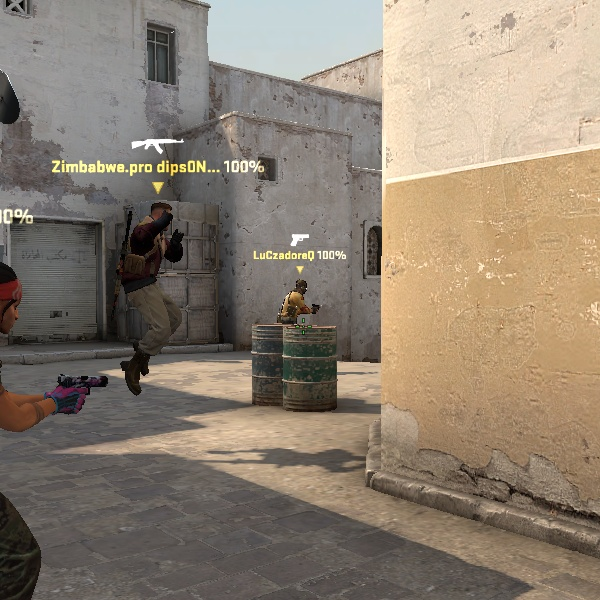t_body: (120, 201, 183, 395), (278, 277, 320, 325)
t_head: (149, 200, 175, 226), (295, 278, 309, 295)
